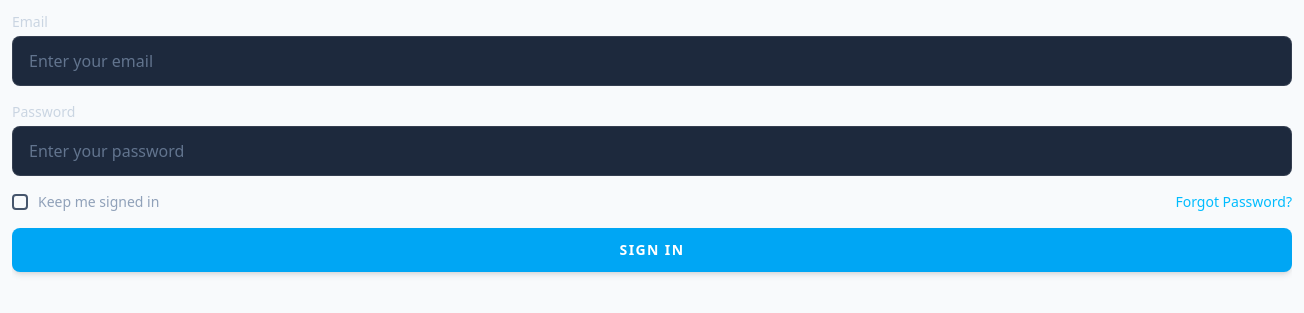
Scenario: Login Component › shows an error when password is less than 6 characters
Type "test@test.com" into the field with placeholder "Enter your email" at (652, 61), box [12,36,1292,86]
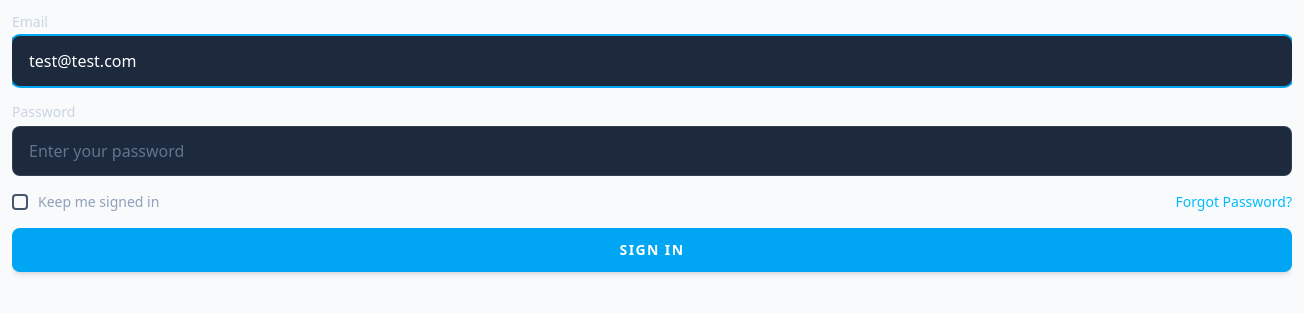
Type "123" into the password field with placeholder "Enter your password" at (652, 151), box [12,126,1292,176]
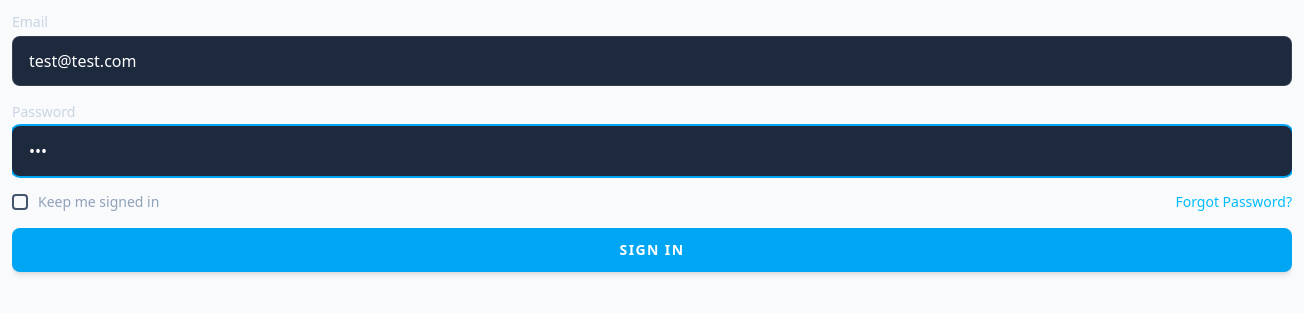
Click the button "Sign In" at (652, 250), box [12,228,1292,272]
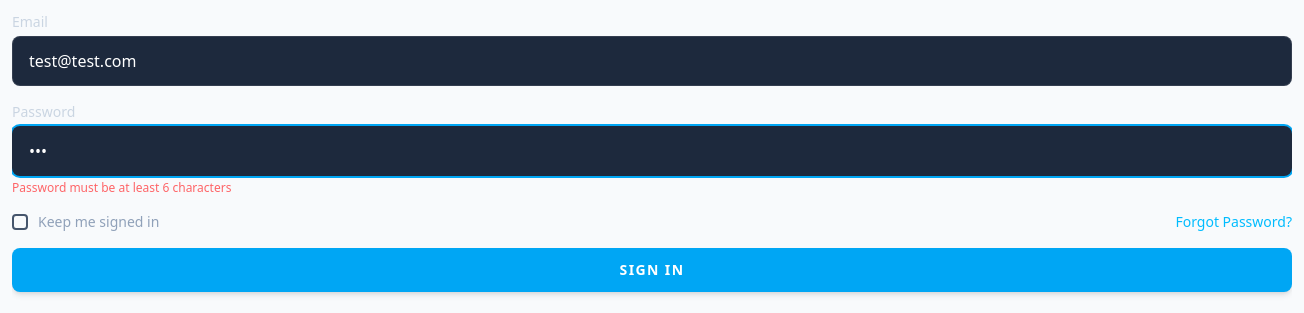
Expected: the text "Password must be at least 6 characters" is shown, [12,179,231,196]
